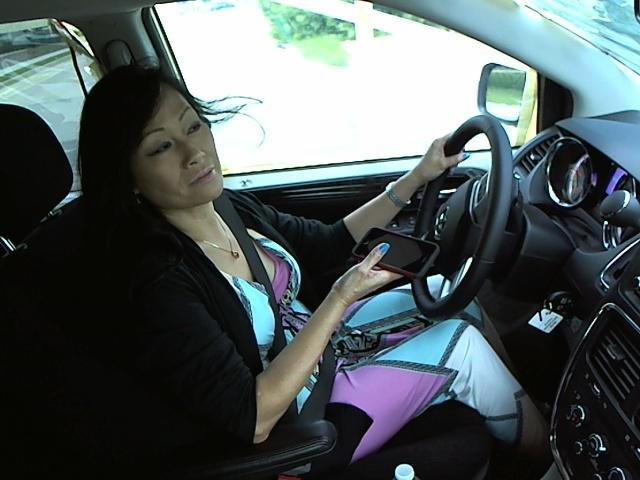PhoneUse: (343, 219, 450, 287)
